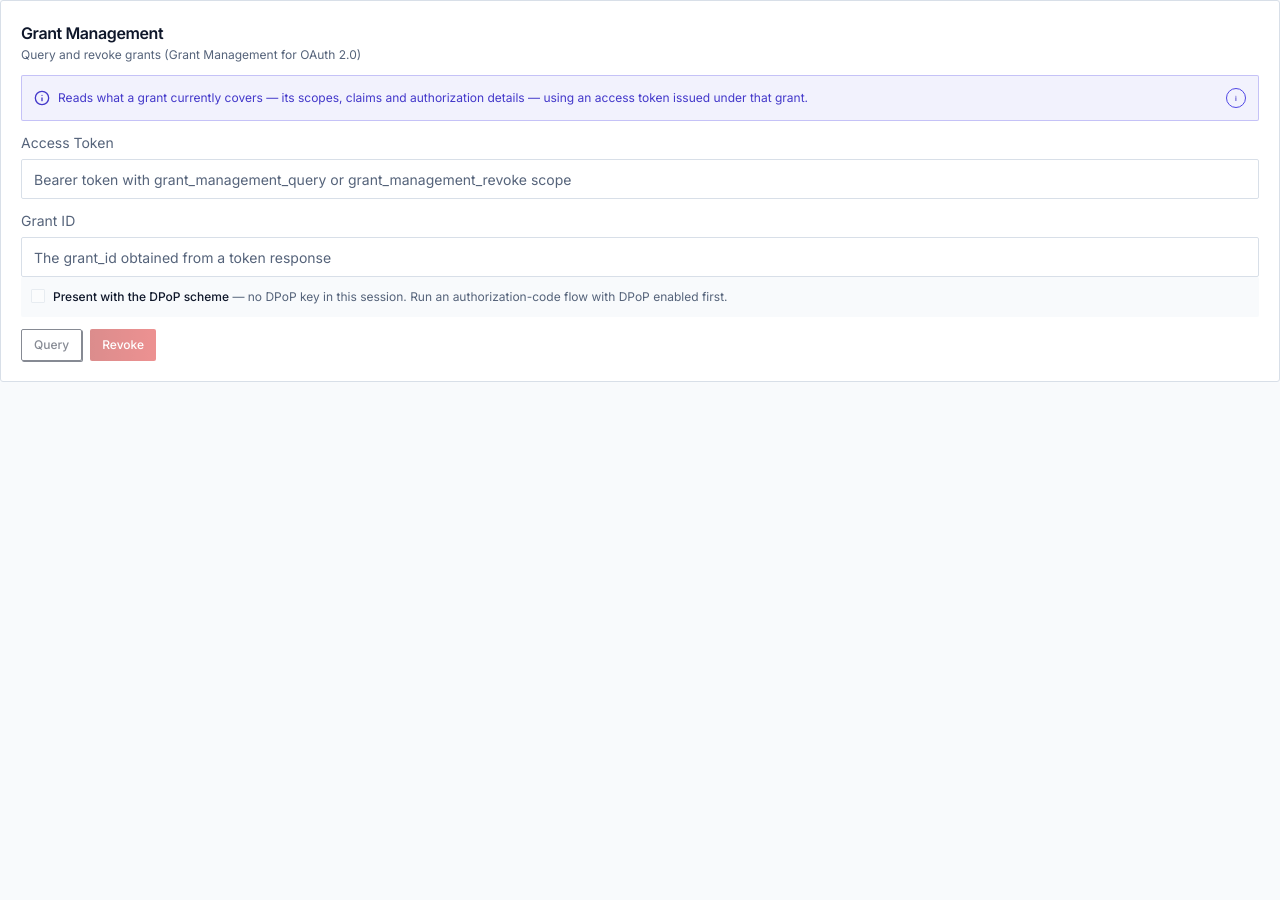
Test: GrantManagementSection — presenting the token the way the resource requires › renders the grant the server returned
The width and height of the screenshot is (1280, 900).
Replace the text in the field labelled "Access Token" with "at-plain-01": (640, 179) [21, 159, 1259, 199]
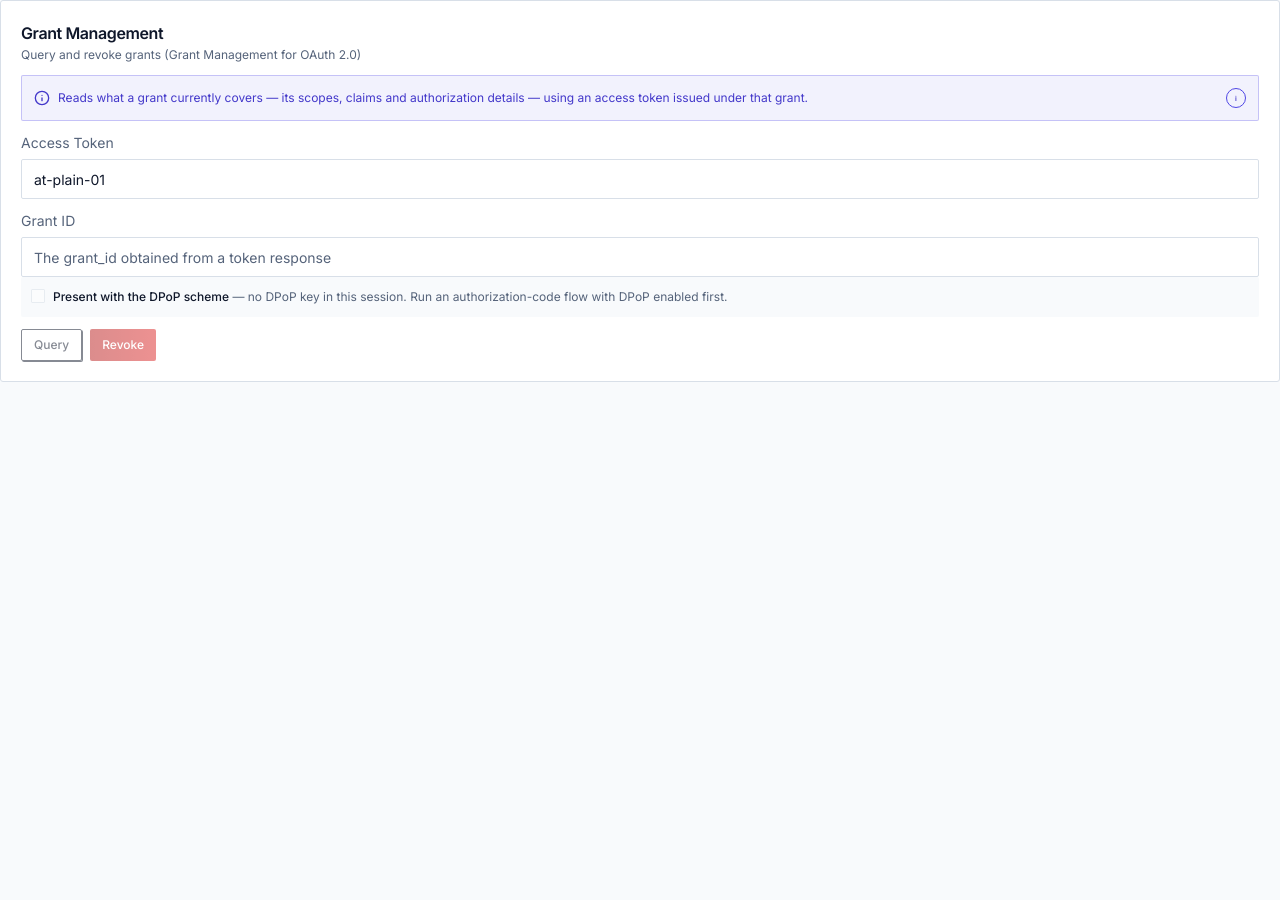
In the field labelled "Grant ID": (640, 257) [21, 237, 1259, 277], type "grant-77"
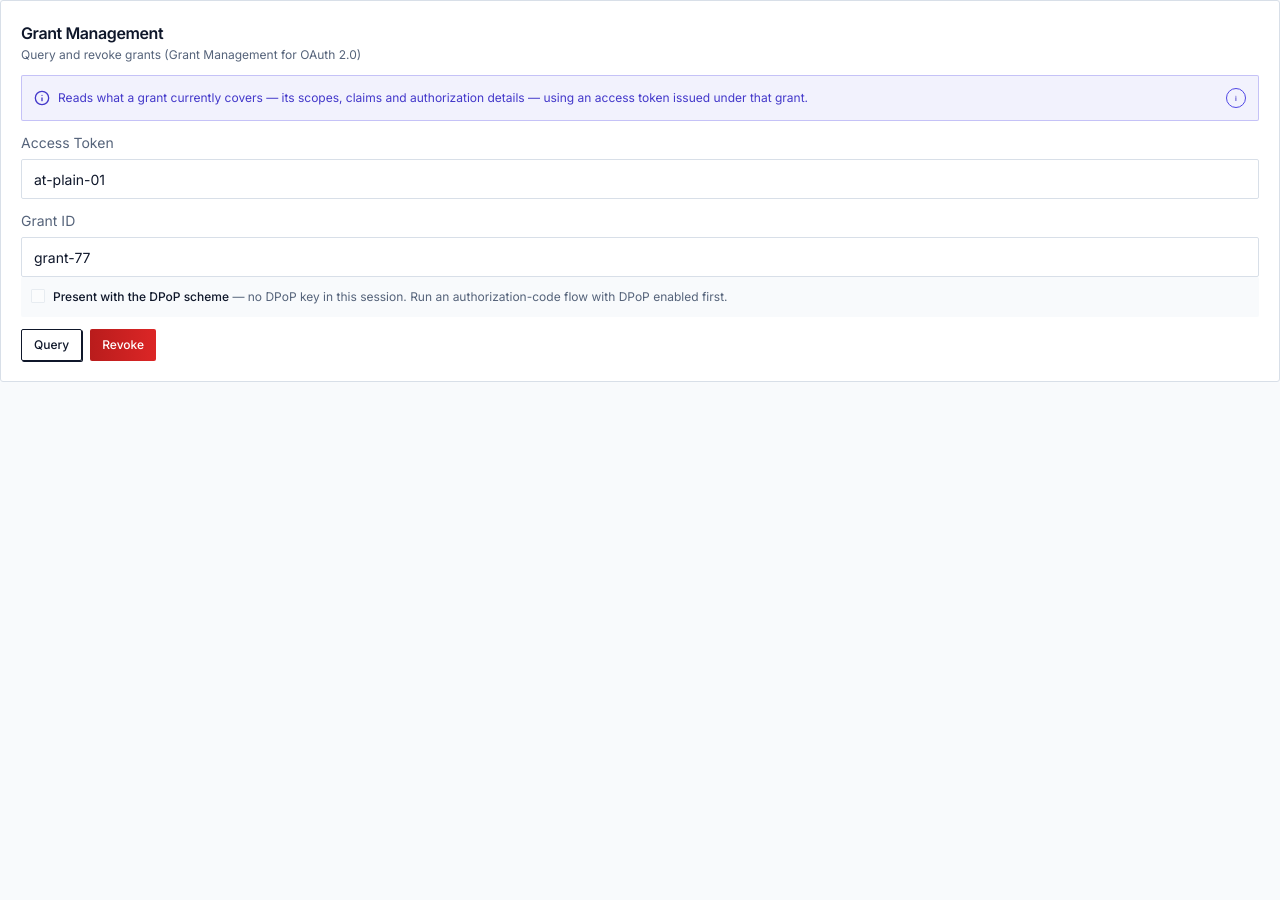
Expected: the button "Query" is enabled
Click the button "Query": click(52, 344) [21, 328, 82, 360]
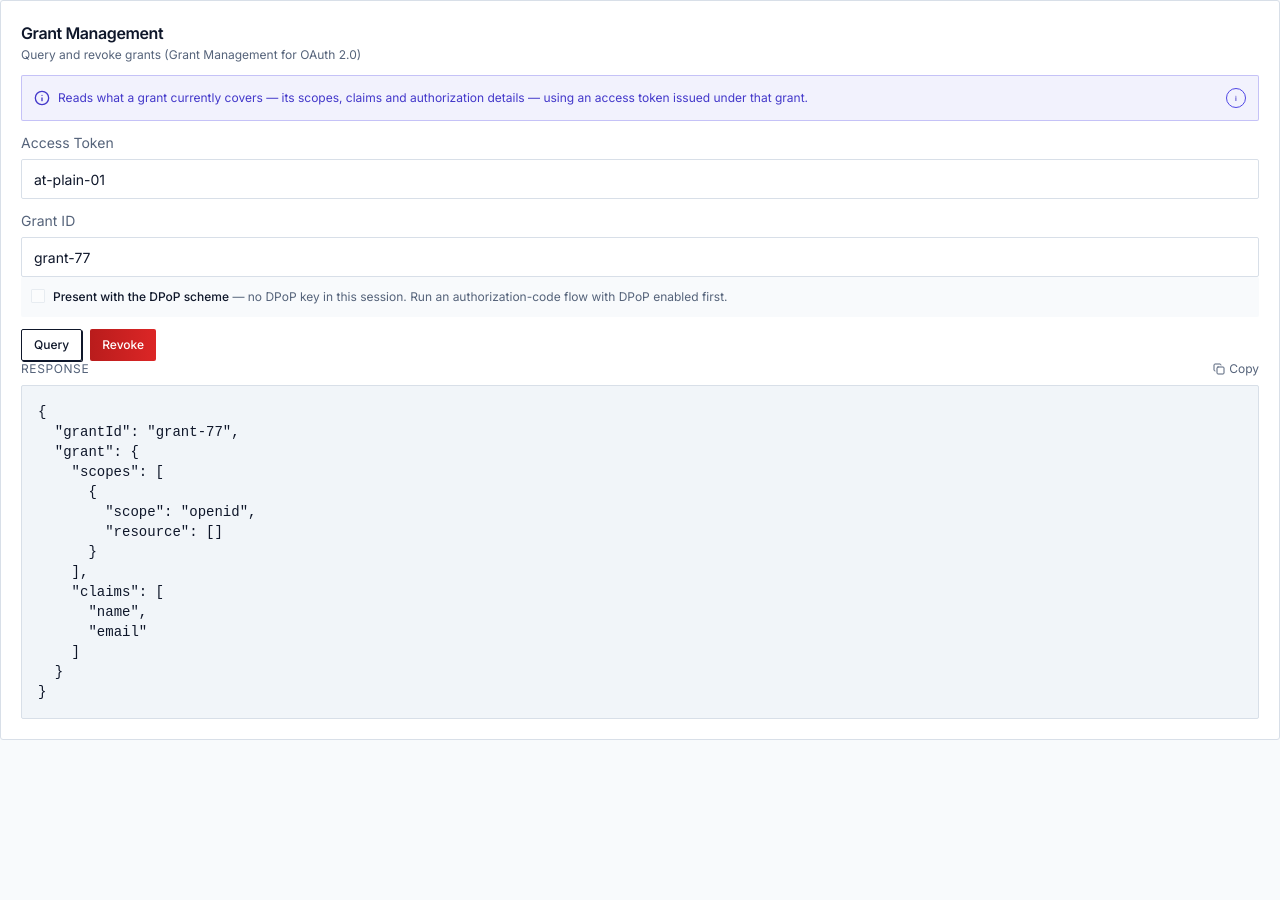
Expected: the text "openid" is shown, [38, 404, 256, 700]
